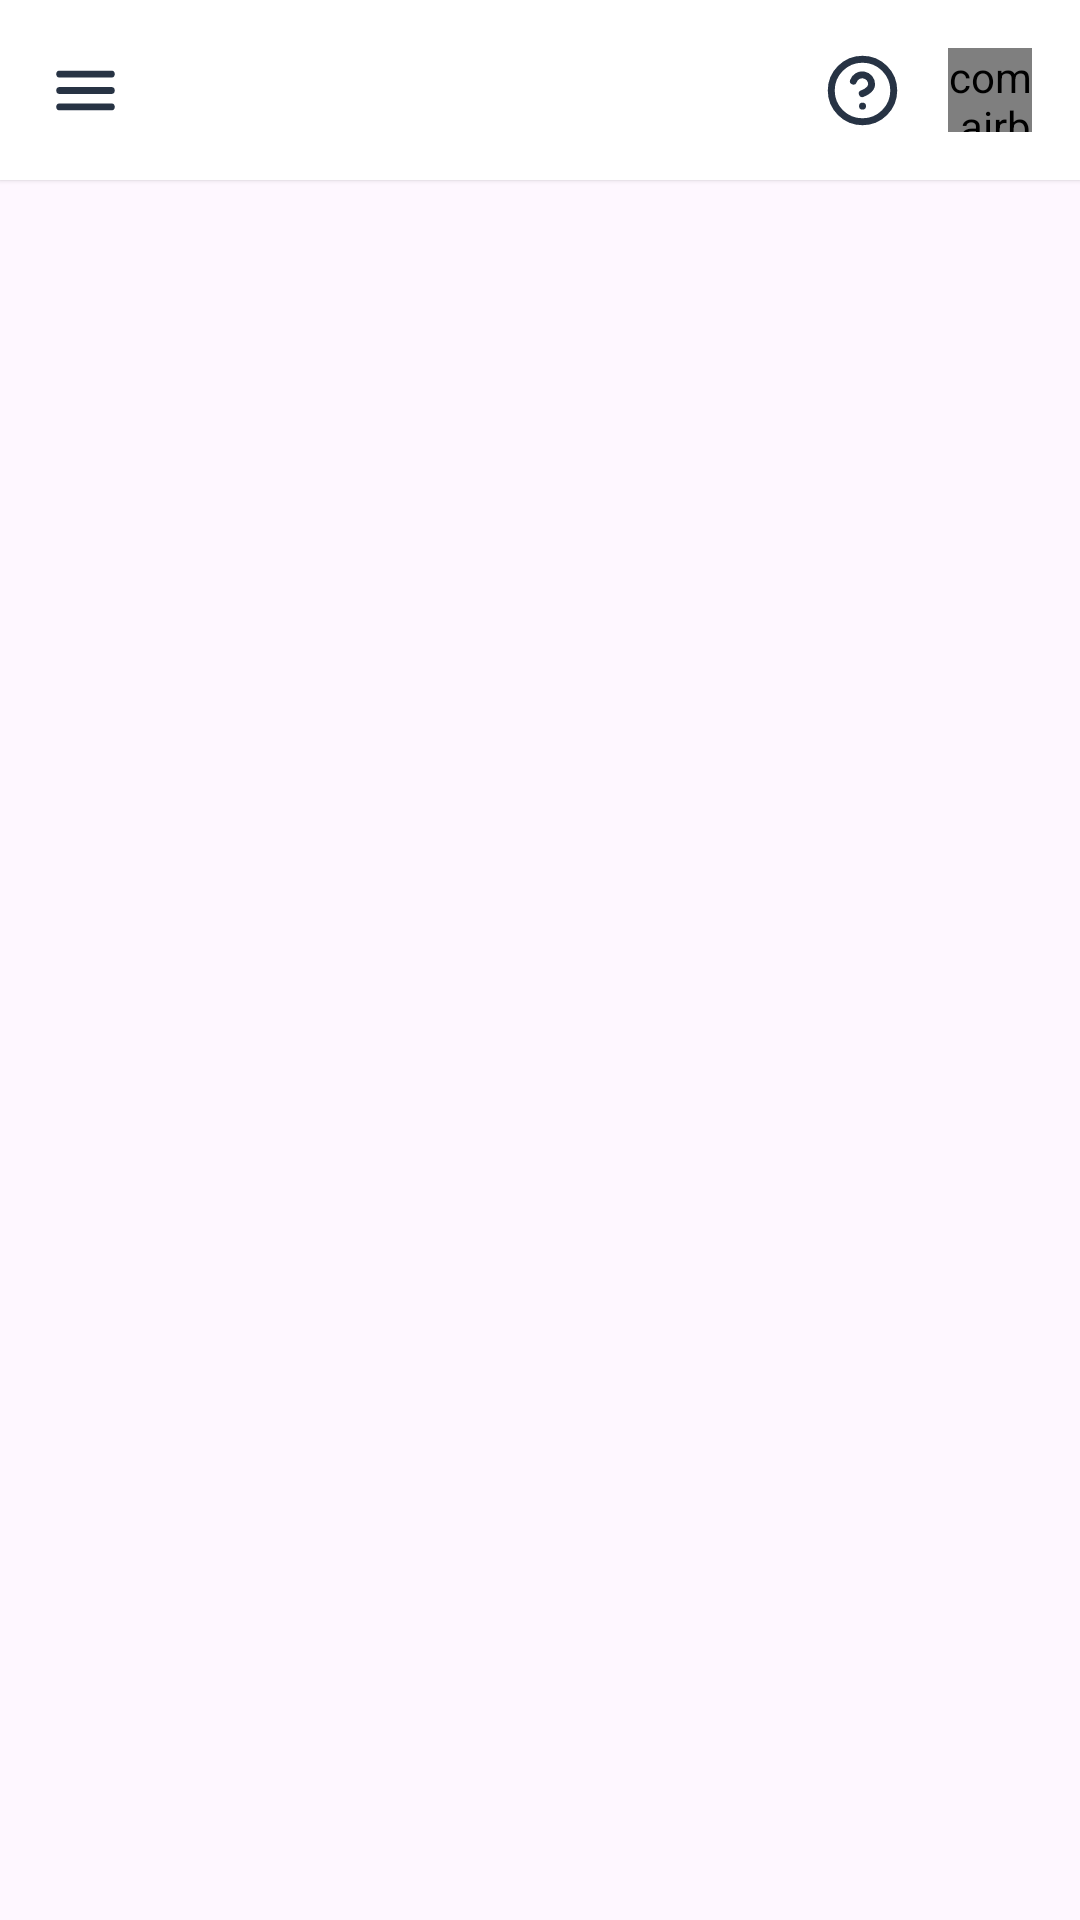

Named icons in this screenshot (1080 x 1920) and their centers, [x,y]:
hamburger: [85,90]
help toolbar: [862,90]
